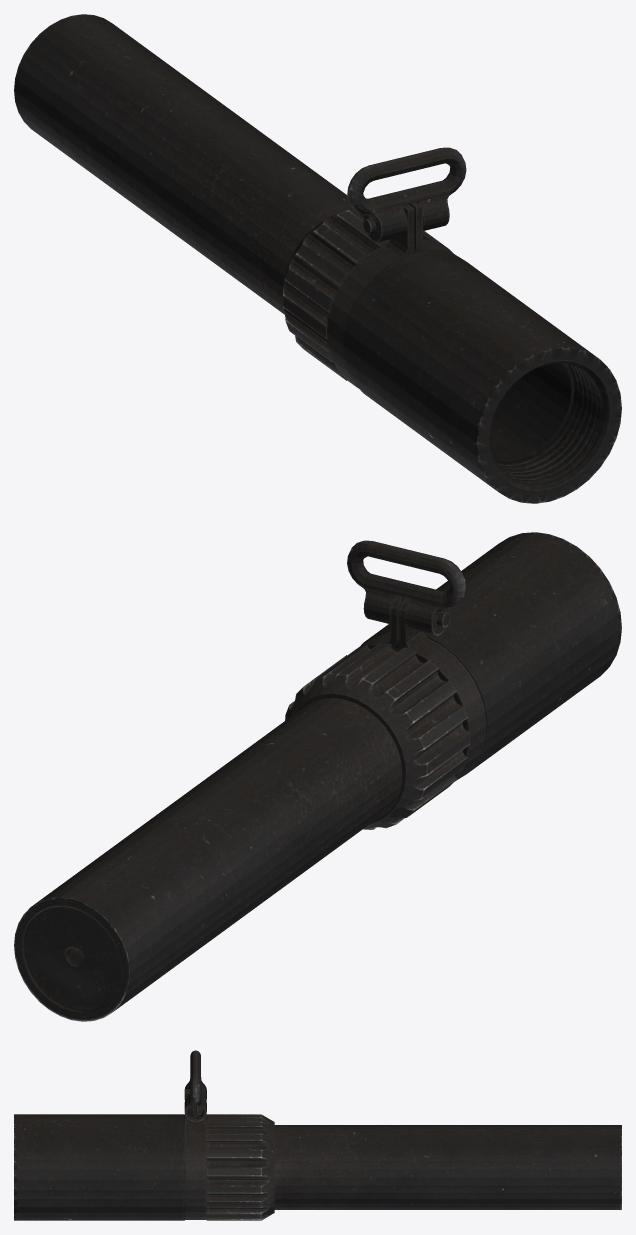
The picture shows the model from 3 angles, top to bottom: view 1: azimuth 30°, elevation 25°; view 2: azimuth 150°, elevation 25°; view 3: azimuth 270°, elevation 25°; orthographic projection. The views are drawn at different scales.
Visible parts, largest first — view 1: TW_6076c87f232e5a31c233d50e_PZ_Import; view 2: TW_6076c87f232e5a31c233d50e_PZ_Import; view 3: TW_6076c87f232e5a31c233d50e_PZ_Import.
Part boxes in pixels (x1=…): TW_6076c87f232e5a31c233d50e_PZ_Import: x1=14, y1=14, x2=621, y2=503; TW_6076c87f232e5a31c233d50e_PZ_Import: x1=14, y1=532, x2=621, y2=1021; TW_6076c87f232e5a31c233d50e_PZ_Import: x1=14, y1=1050, x2=621, y2=1220.
Bounding box in the file's own units: 0.0185 × 0.1057 × 0.0293.
1 material, 1 textured.
